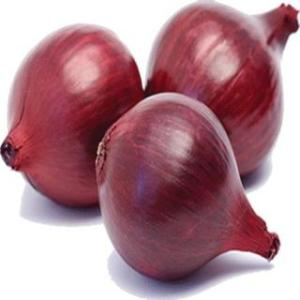onion: (96, 91, 280, 282), (143, 0, 299, 180), (1, 23, 143, 209)
